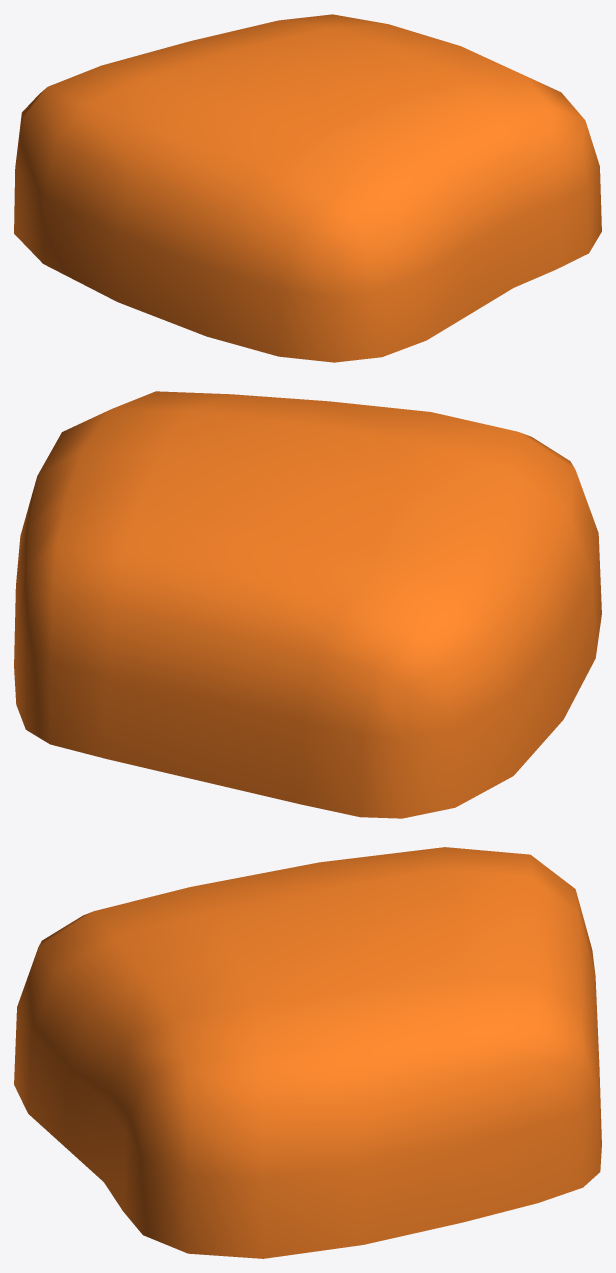
File: Rock 2.fbx
3 views of the same model, one above another, from view 1: azimuth 30°, elevation 25°; view 2: azimuth 150°, elevation 25°; view 3: azimuth 270°, elevation 25° (orthographic). The views are drawn at different scales.
Visible parts, largest first — view 1: Rock 2; view 2: Rock 2; view 3: Rock 2.
Part boxes in pixels (box(x1,y1,x2,y2)): Rock 2: box(14, 14, 601, 362); Rock 2: box(14, 391, 601, 818); Rock 2: box(14, 847, 601, 1258).
Bounding box in the file's own units: 2.13 × 0.721 × 1.99.
